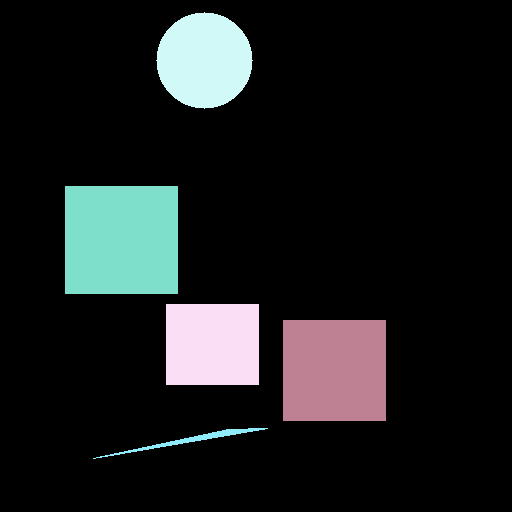circle: (156, 12, 252, 108)
rectangle: (166, 304, 258, 384)
square: (65, 186, 177, 293), (283, 320, 385, 420)
